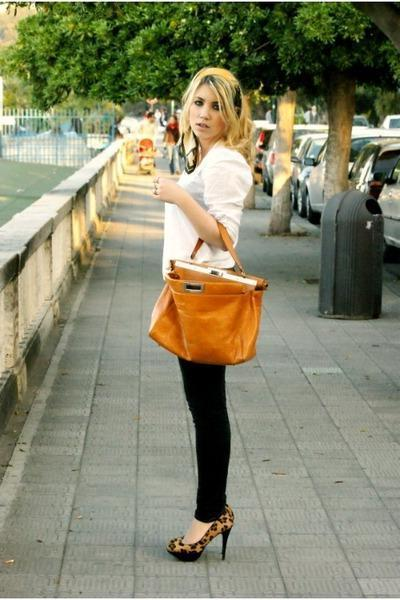short sleeve shirt: (157, 143, 256, 279)
trousers: (163, 357, 248, 518)
